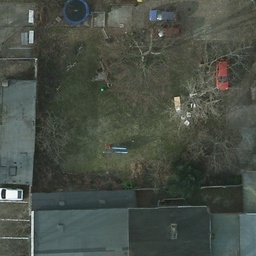car: (214, 61, 229, 92), (152, 26, 182, 40), (147, 8, 178, 21), (0, 187, 27, 201)
